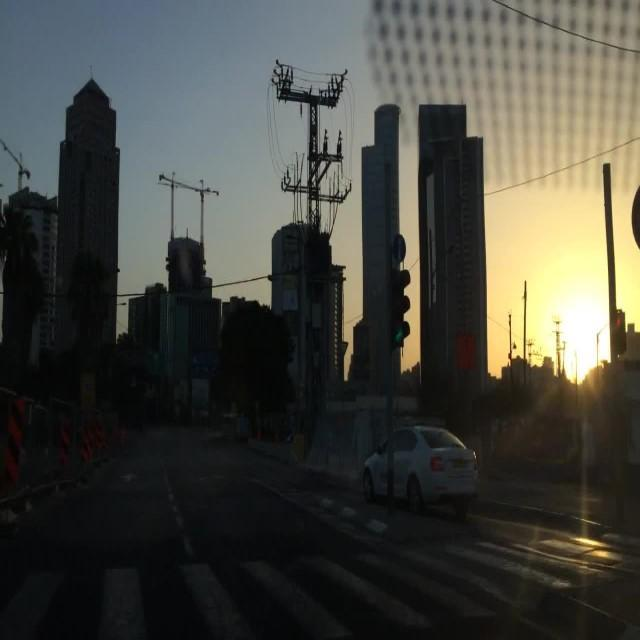normal: (330, 397, 496, 532)
